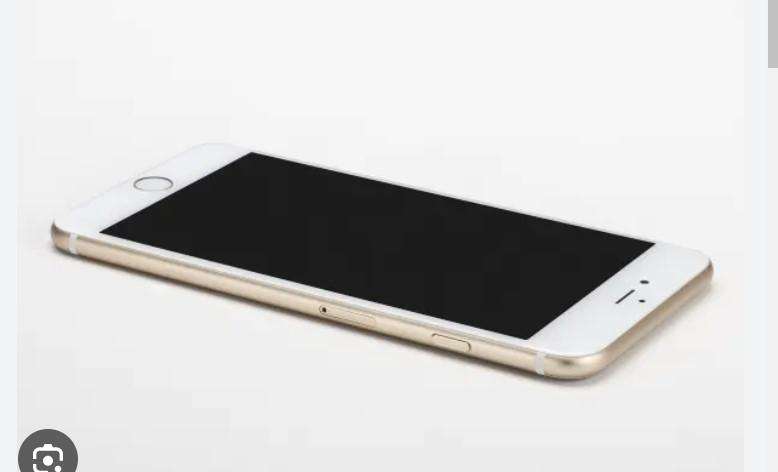Smart Phone: (49, 142, 714, 382)
